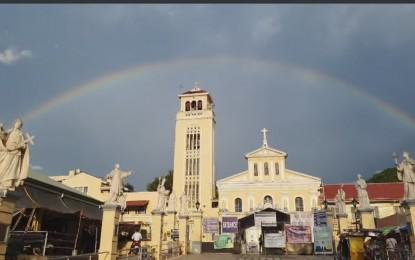manaoag_church_manaoag_pangasinan: (169, 75, 325, 254)
